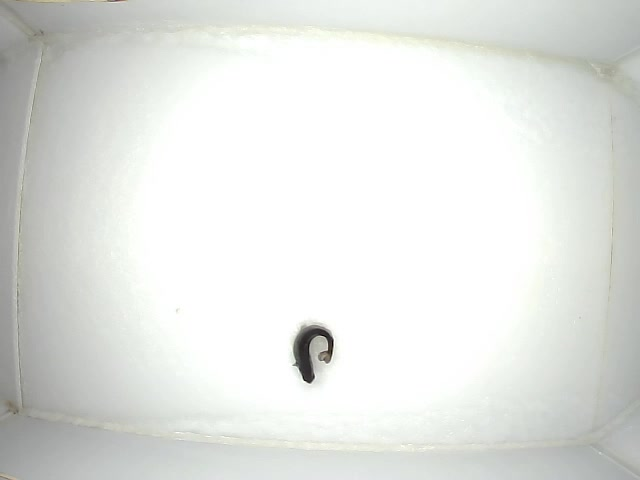fish: (287, 321, 336, 384)
